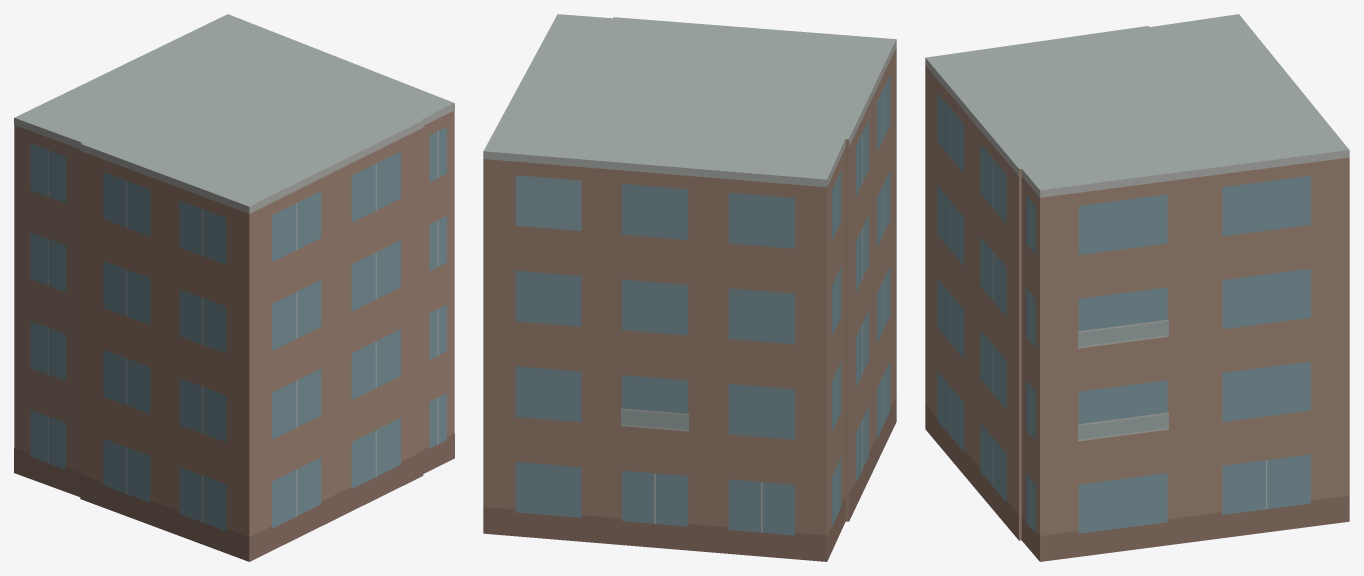
Rendered from survey-upis-32666517.glb.
3 views of the same model, side by side, from view 1: azimuth 30°, elevation 25°; view 2: azimuth 150°, elevation 25°; view 3: azimuth 270°, elevation 25° (orthographic). The views are drawn at different scales.
Visible parts, largest first — view 1: survey-upis-32666517.tmp; view 2: survey-upis-32666517.tmp; view 3: survey-upis-32666517.tmp.
Boxes of the visible parts, bbox=[...] form: survey-upis-32666517.tmp: bbox=[14, 14, 454, 561]; survey-upis-32666517.tmp: bbox=[483, 14, 896, 561]; survey-upis-32666517.tmp: bbox=[925, 14, 1349, 561].
Bounding box in the file's own units: 12.35 × 12.12 × 12.55.
